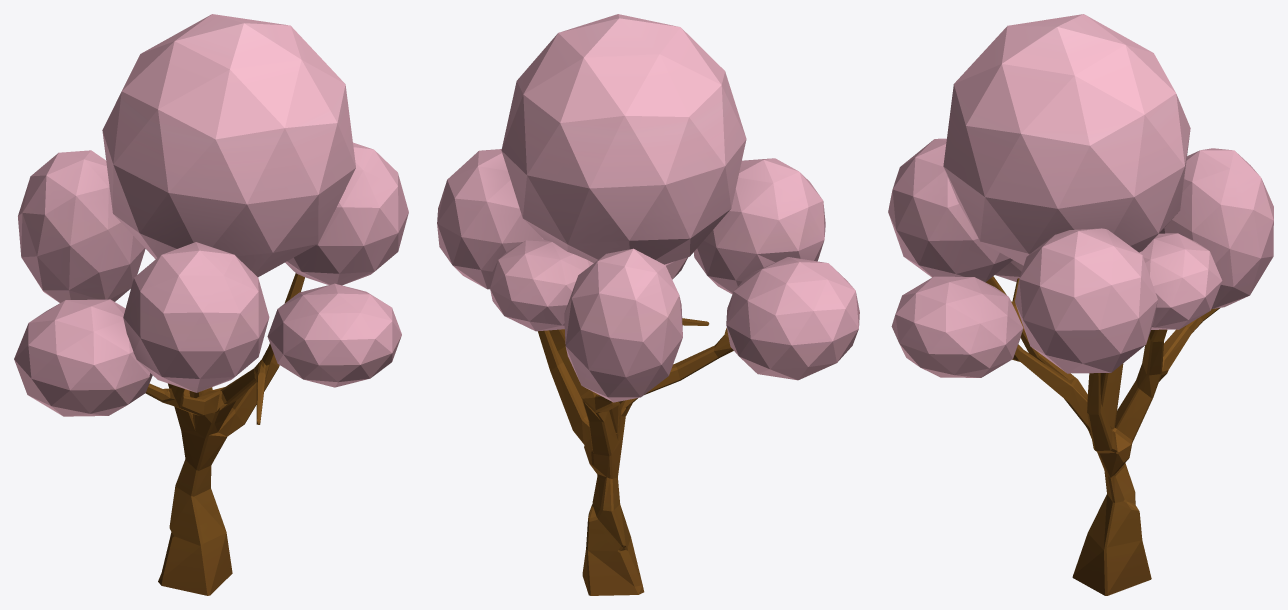
The model's file is tree_cluster.glb.
3 renders of one model, left to right at view 1: azimuth 30°, elevation 25°; view 2: azimuth 150°, elevation 25°; view 3: azimuth 270°, elevation 25°, orthographic. The views are drawn at different scales.
Visible parts, largest first — view 1: tree_cluster; view 2: tree_cluster; view 3: tree_cluster.
Boxes of the visible parts, x1,y1,x2,y2 form: tree_cluster: [14, 14, 408, 595]; tree_cluster: [437, 14, 859, 595]; tree_cluster: [888, 14, 1273, 595].
Bounding box in the file's own units: 2.87 × 3.9 × 2.42.
1 material, 1 textured.
